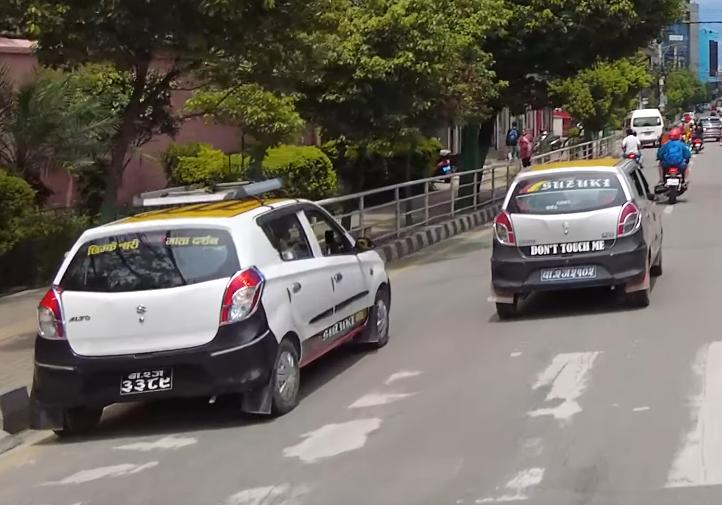bike: (655, 147, 695, 209)
micro_bus: (626, 107, 669, 146)
taxi: (30, 169, 398, 438), (490, 146, 668, 324)
